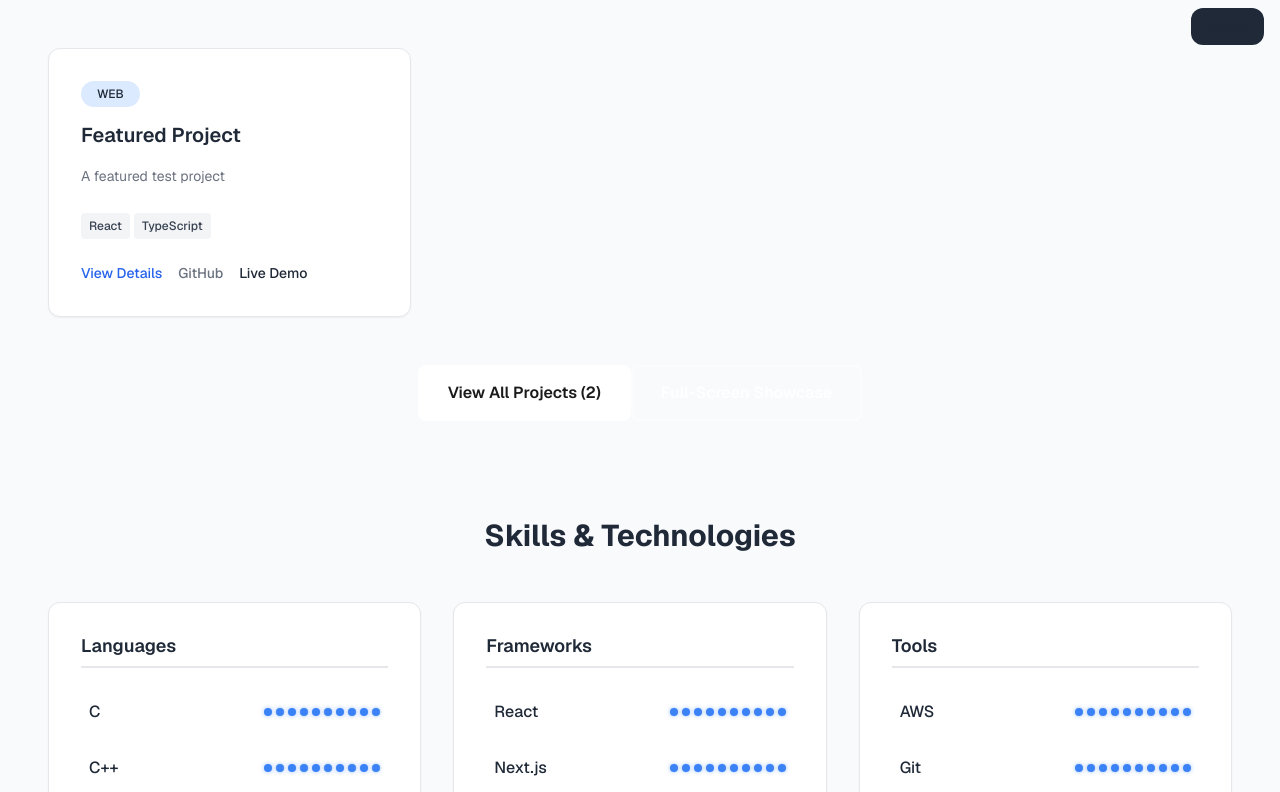
HomePage › toggles between featured and all projects when clicking View All Projects button
The image size is (1280, 792).
(page scrolled)
Expected: the heading "Featured Project" is shown, left=81, top=122, right=241, bottom=148
Expected: the text "Non-Featured Project" is not shown
Click the button "View All Projects (2)": (524, 392) left=418, top=364, right=631, bottom=420
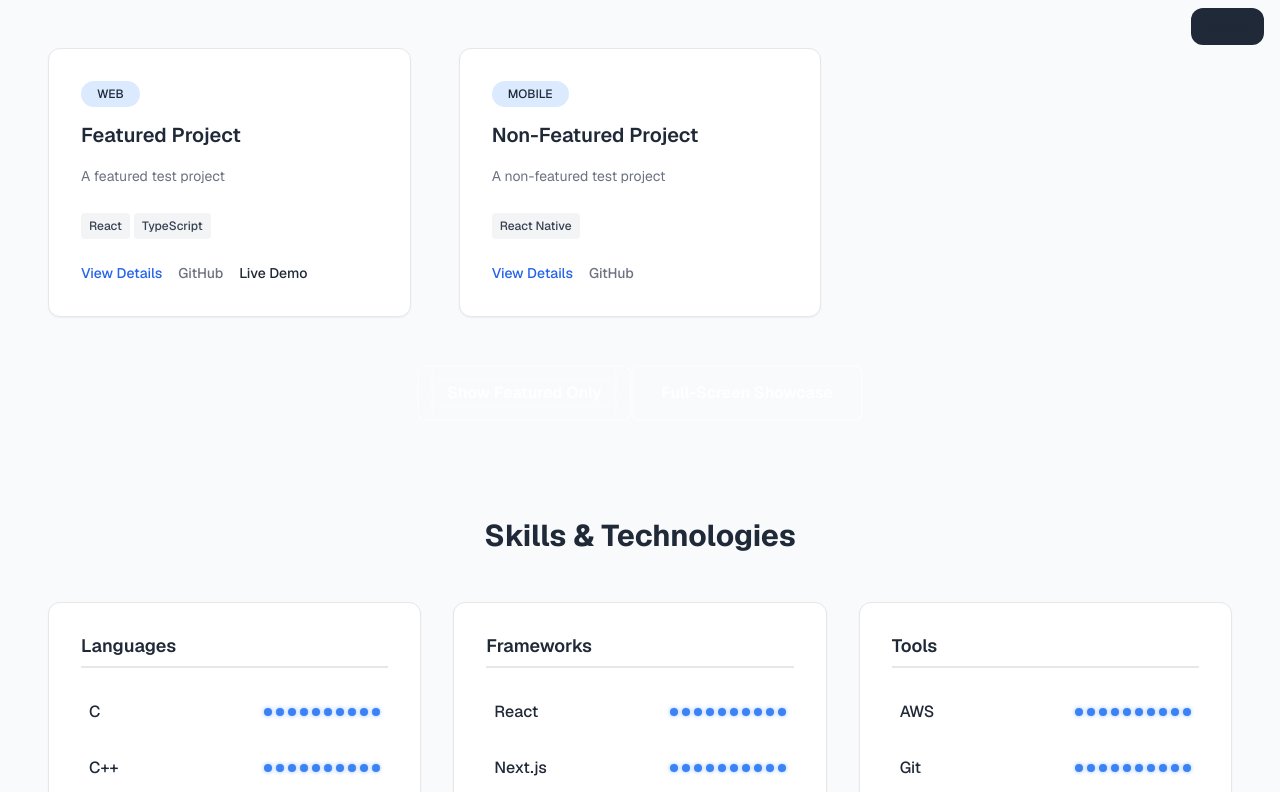
Expected: the heading "Featured Project" is shown, left=81, top=122, right=241, bottom=148
Now the heading "Non-Featured Project" is shown, box left=492, top=122, right=698, bottom=148
